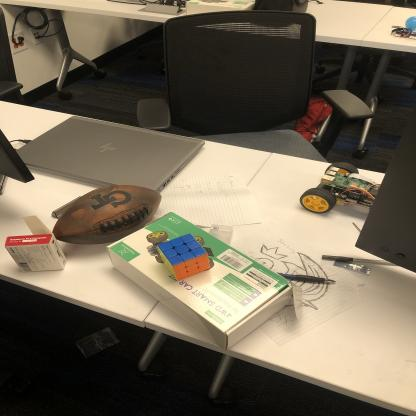SolvedCube: (156, 233, 213, 281)
